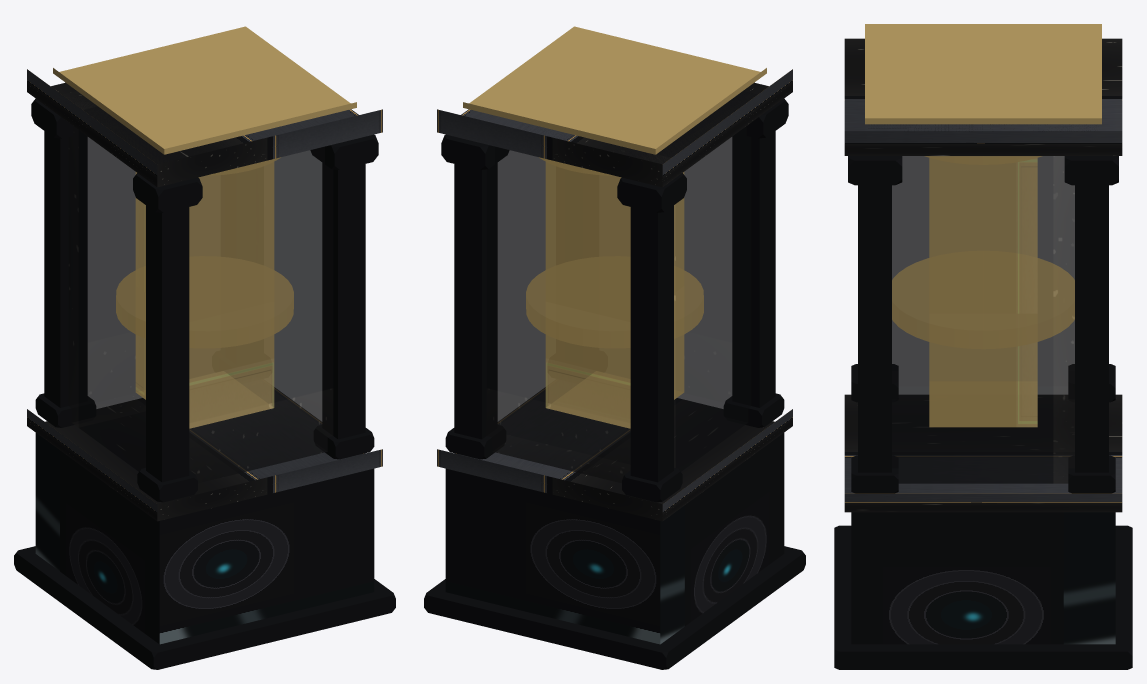
The model's file is room_l3_img2_preservation_case.glb.
The picture shows the model from 3 angles, left to right: view 1: azimuth 30°, elevation 25°; view 2: azimuth 150°, elevation 25°; view 3: azimuth 270°, elevation 25°; orthographic projection. The views are drawn at different scales.
Parts seen in each view (by area): view 1: glass_column, case_base, dust_film, base_cap, specimen_glow, clamp_1, clamp_0, clamp_3, top_cap, base_foot, glow_base_ring, clamp_head_1 (+5 smaller); view 2: glass_column, case_base, dust_film, base_cap, specimen_glow, clamp_3, clamp_2, clamp_1, top_cap, base_foot, glow_base_ring, clamp_head_3 (+5 smaller); view 3: glass_column, case_base, specimen_glow, dust_film, base_cap, top_cap, base_foot, clamp_0, clamp_2, glow_base_ring, clamp_head_0, clamp_head_2 (+5 smaller).
Part boxes in pixels (x1=…): glass_column: x1=62, y1=91, x2=333, y2=483; case_base: x1=35, y1=433, x2=374, y2=644; dust_film: x1=53, y1=26, x2=356, y2=154; base_cap: x1=27, y1=388, x2=382, y2=521; specimen_glow: x1=136, y1=162, x2=273, y2=428; clamp_1: x1=146, y1=205, x2=189, y2=482; clamp_0: x1=322, y1=163, x2=365, y2=439; clamp_3: x1=44, y1=131, x2=87, y2=407; top_cap: x1=27, y1=69, x2=382, y2=187; base_foot: x1=14, y1=546, x2=395, y2=669; glow_base_ring: x1=116, y1=270, x2=293, y2=347; clamp_head_1: x1=133, y1=173, x2=202, y2=212; glass_column: x1=486, y1=91, x2=757, y2=483; case_base: x1=445, y1=433, x2=784, y2=644; dust_film: x1=463, y1=26, x2=766, y2=154; base_cap: x1=437, y1=388, x2=792, y2=521; specimen_glow: x1=546, y1=162, x2=683, y2=428; clamp_3: x1=630, y1=205, x2=673, y2=482; clamp_2: x1=454, y1=163, x2=497, y2=439; clamp_1: x1=732, y1=131, x2=775, y2=407; top_cap: x1=437, y1=69, x2=792, y2=187; base_foot: x1=424, y1=546, x2=805, y2=669; glow_base_ring: x1=526, y1=270, x2=703, y2=347; clamp_head_3: x1=617, y1=173, x2=686, y2=212; glass_column: x1=871, y1=124, x2=1088, y2=483; case_base: x1=851, y1=512, x2=1115, y2=644; specimen_glow: x1=929, y1=158, x2=1037, y2=427; dust_film: x1=865, y1=24, x2=1101, y2=124; base_cap: x1=844, y1=394, x2=1122, y2=512; top_cap: x1=844, y1=38, x2=1122, y2=155; base_foot: x1=834, y1=525, x2=1132, y2=669; clamp_0: x1=858, y1=156, x2=891, y2=472; clamp_2: x1=1075, y1=156, x2=1108, y2=472; glow_base_ring: x1=892, y1=258, x2=1074, y2=348; clamp_head_0: x1=848, y1=156, x2=902, y2=185; clamp_head_2: x1=1064, y1=156, x2=1118, y2=185.
Size of the model in its own units: 0.88 by 1.75 by 0.88.
5 materials, 5 textured.
